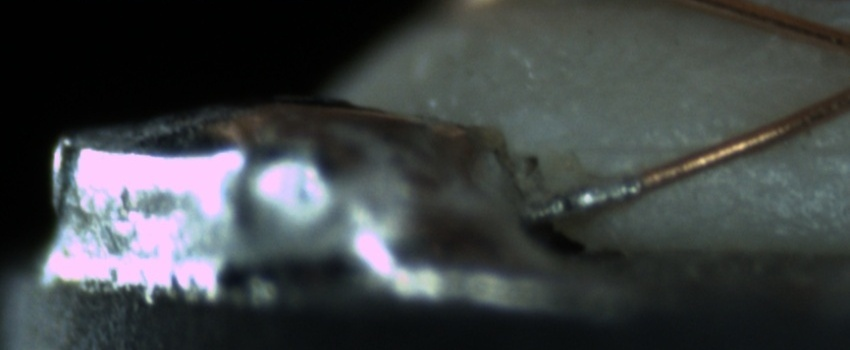DL: (565, 116, 840, 181)
TS: (526, 176, 643, 223)
TTCW: (528, 168, 657, 221)
